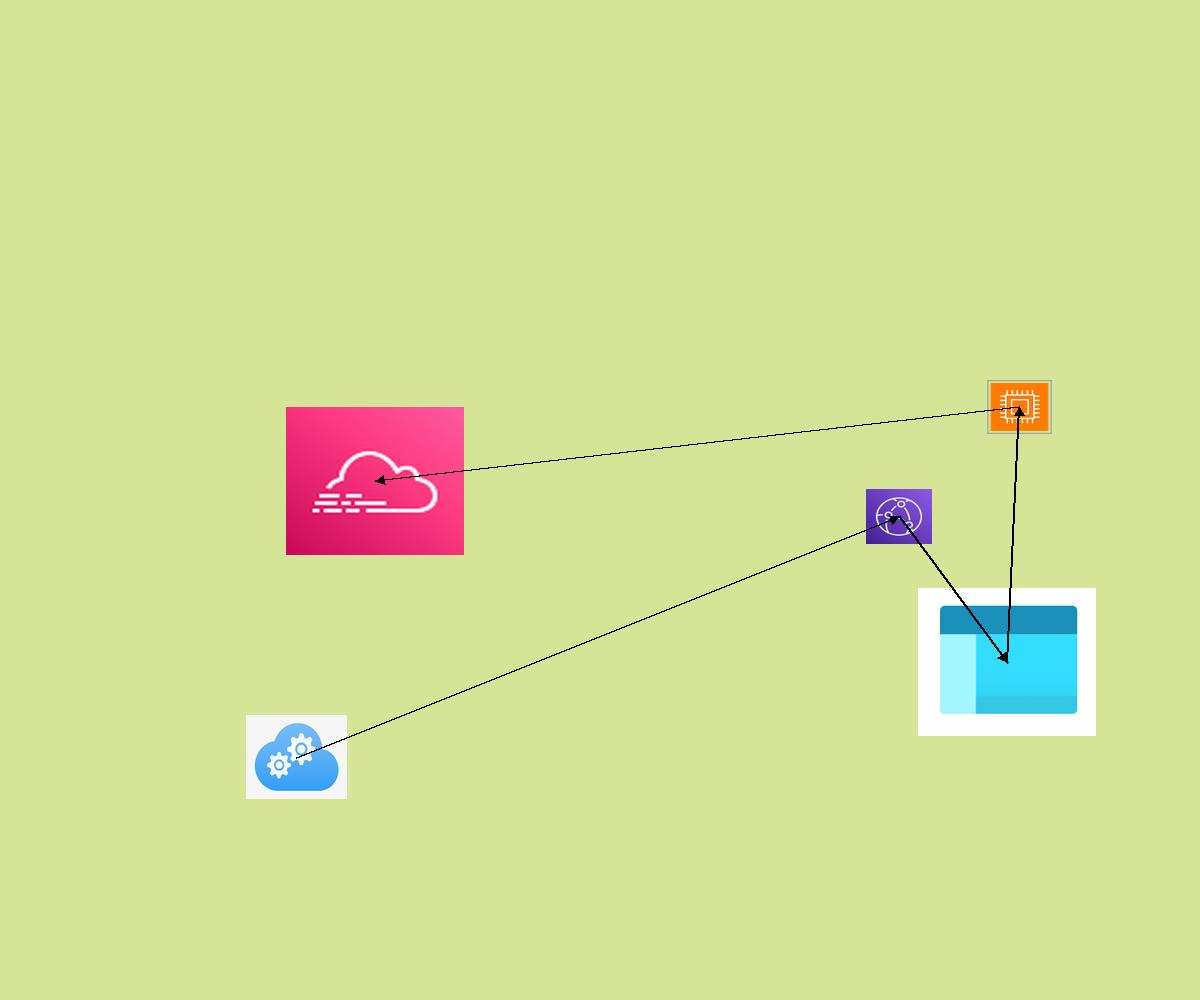AWS-Category_Compute: (987, 380, 1052, 434)
AWS-CloudFront: (866, 489, 932, 544)
AWS-CloudTrail: (286, 407, 464, 555)
Azure_cloud_services: (246, 715, 347, 799)
Azure_management-portal: (918, 588, 1096, 736)
